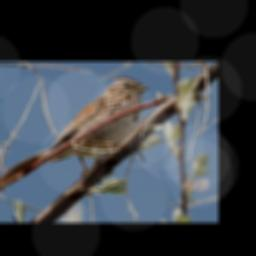Sparrow: (0, 76, 149, 187)
